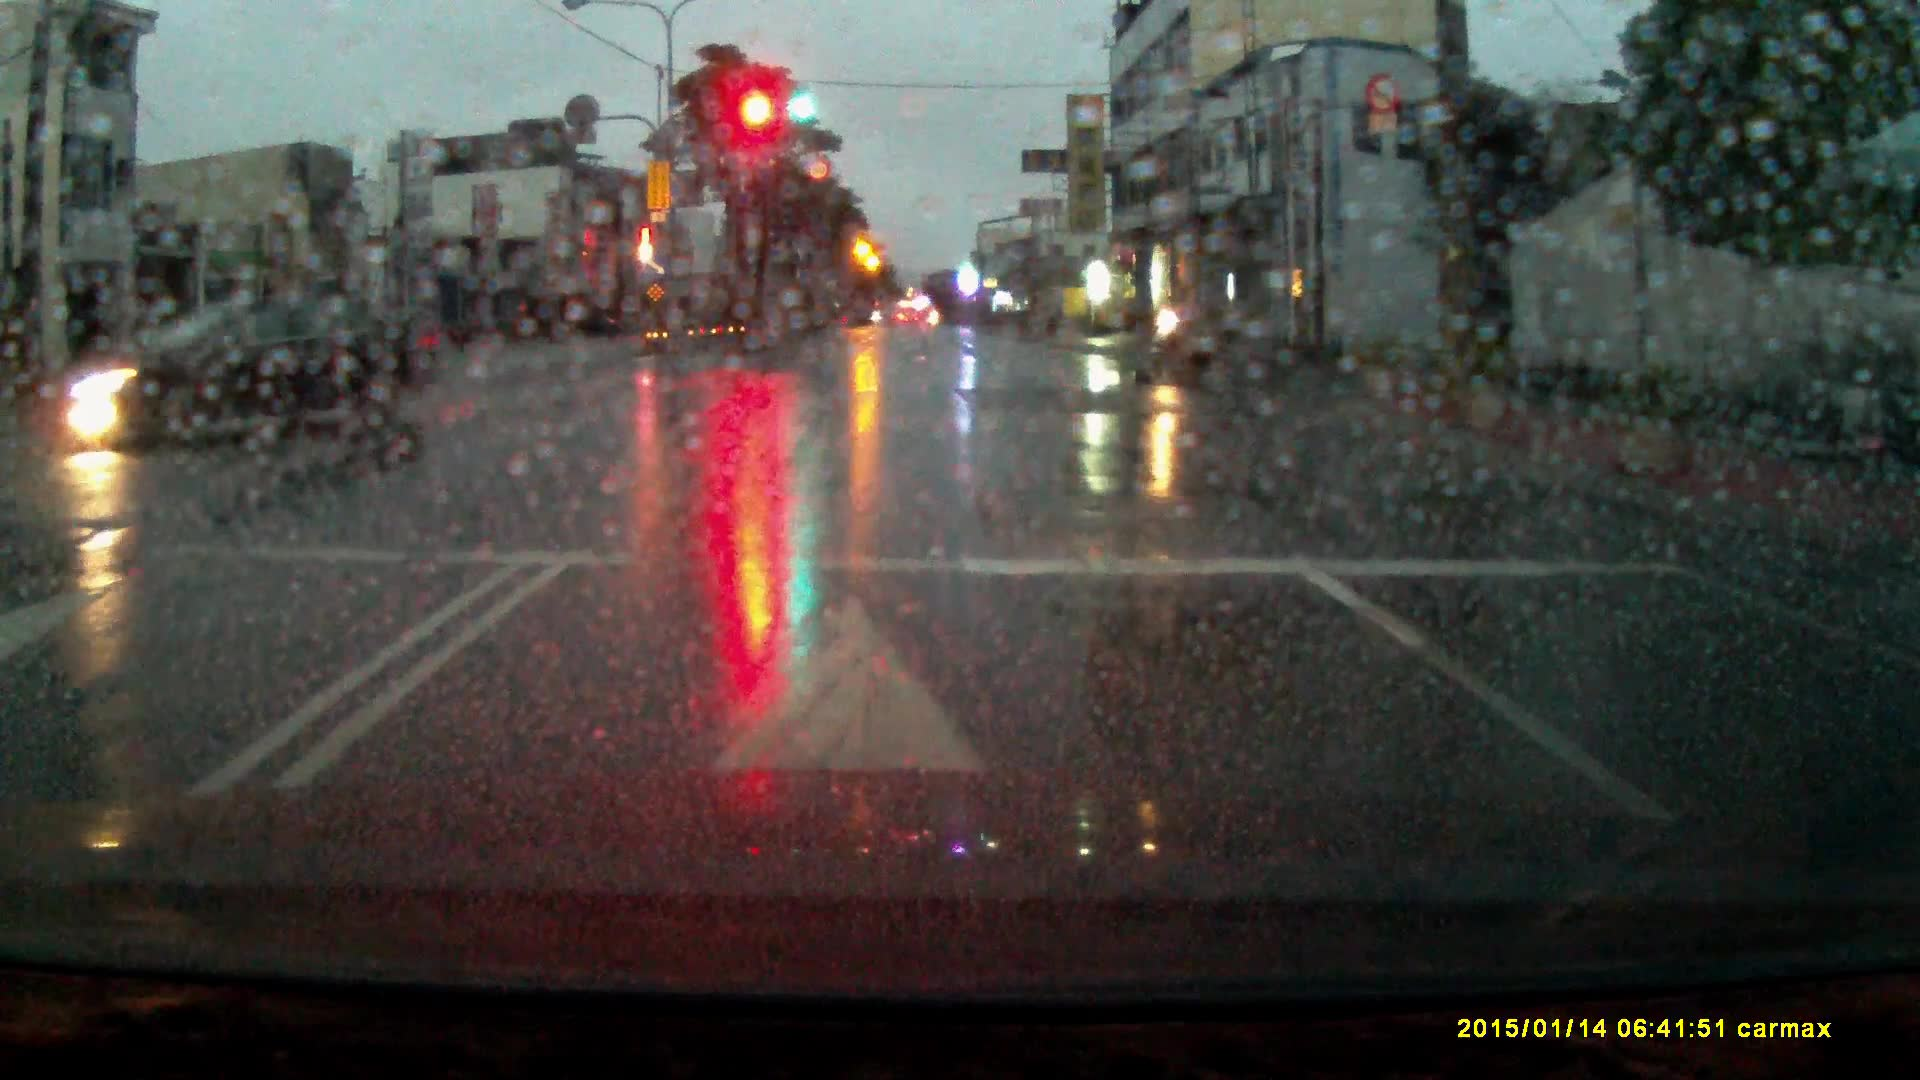rider: (1131, 283, 1218, 374)
vehicle: (66, 292, 418, 457)
